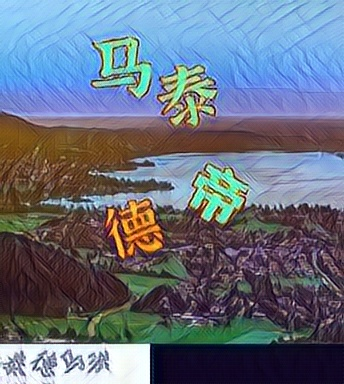B5C2: (103, 196, 165, 260)
B5DB: (187, 161, 249, 225)
C2ED: (91, 33, 153, 97)
CCA9: (156, 62, 218, 126)
